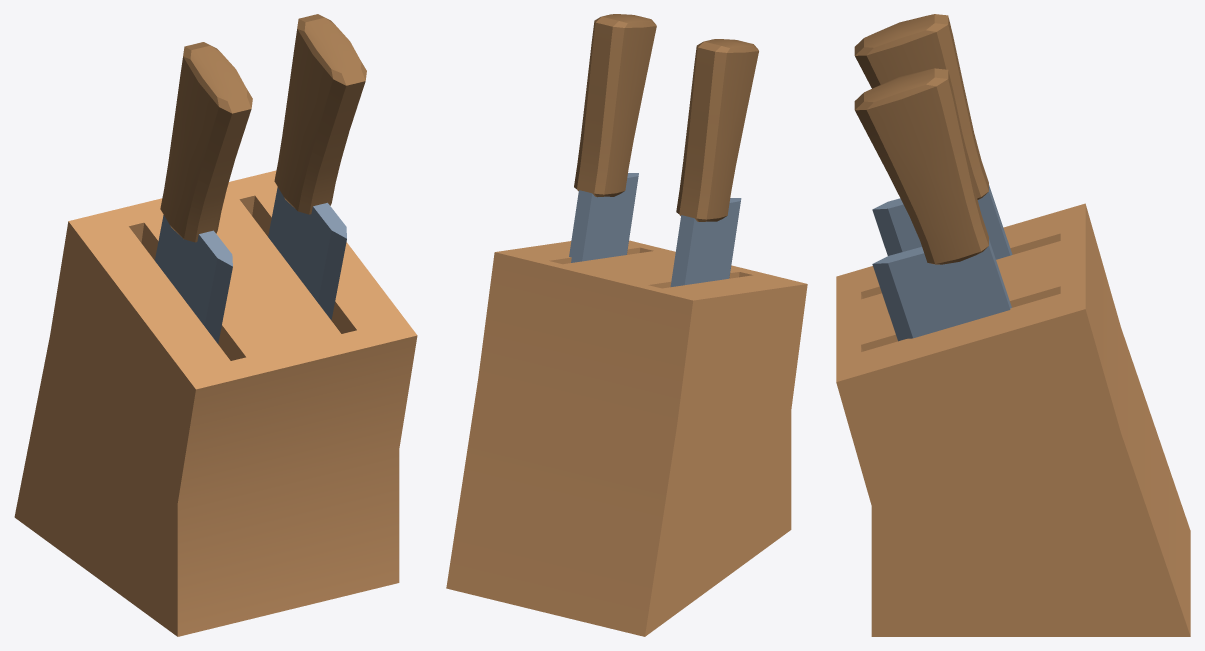
File: Kitchen Knives.glb
3 renders of one model, left to right at view 1: azimuth 30°, elevation 25°; view 2: azimuth 150°, elevation 25°; view 3: azimuth 270°, elevation 25°, orthographic. The views are drawn at different scales.
Parts seen in each view (by area): view 1: Environment_KitchenKnives; view 2: Environment_KitchenKnives; view 3: Environment_KitchenKnives.
Boxes of the visible parts, left/top/right/bottom form: Environment_KitchenKnives: left=14, top=14, right=417, bottom=636; Environment_KitchenKnives: left=446, top=14, right=807, bottom=636; Environment_KitchenKnives: left=836, top=14, right=1190, bottom=636.
Size of the model in its own units: 0.5937 by 1.41 by 0.8427.
Materials: 1 (1 with a texture image).
